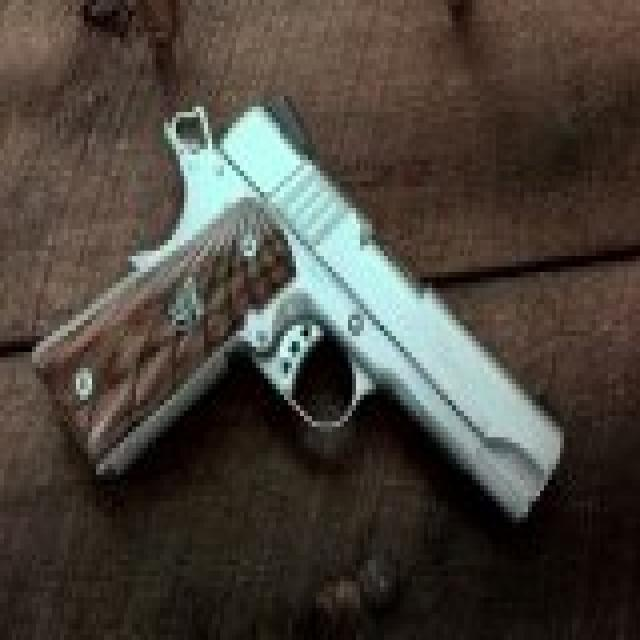Gun: (34, 70, 582, 534)
